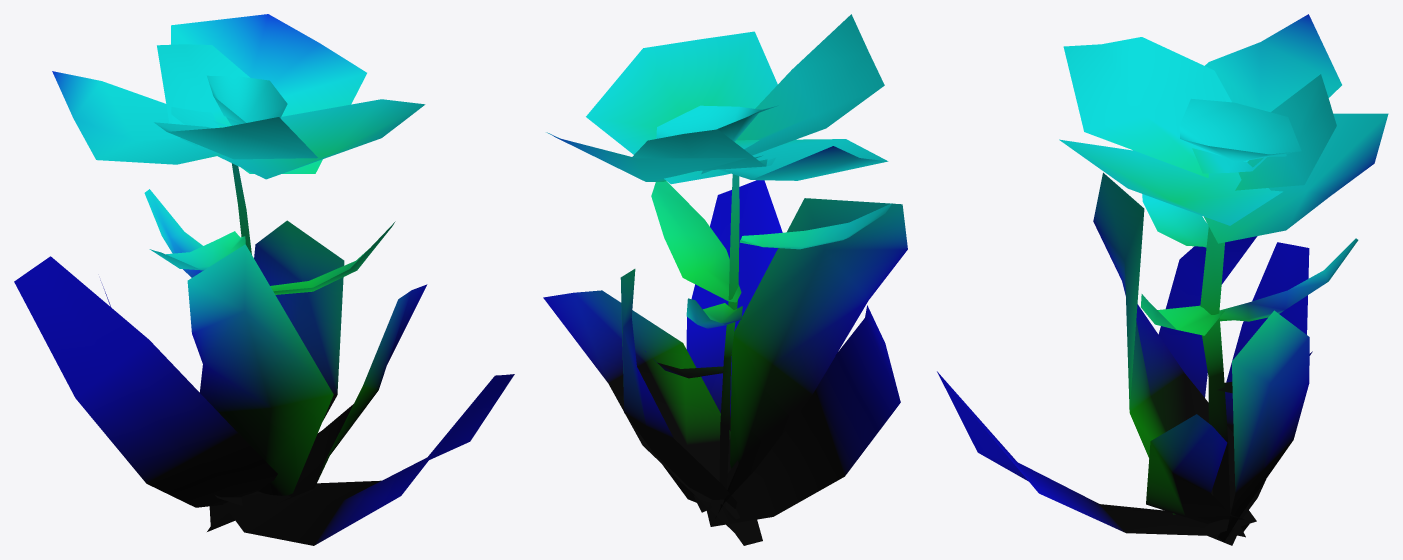
Rendered from SM_BabyBlueEyes_Large_01.fbx.
The picture shows the model from 3 angles, left to right: view 1: azimuth 30°, elevation 25°; view 2: azimuth 150°, elevation 25°; view 3: azimuth 270°, elevation 25°; orthographic projection.
Visible parts, largest first — view 1: SM_BabyBlueEyes_Large_01_LOD0; view 2: SM_BabyBlueEyes_Large_01_LOD0; view 3: SM_BabyBlueEyes_Large_01_LOD0.
Part boxes in pixels (box(x1,y1,x2,y2)): SM_BabyBlueEyes_Large_01_LOD0: box(14, 14, 514, 545); SM_BabyBlueEyes_Large_01_LOD0: box(543, 14, 907, 545); SM_BabyBlueEyes_Large_01_LOD0: box(937, 14, 1388, 545).
Size of the model in its own units: 27.51 by 28.32 by 33.12.
